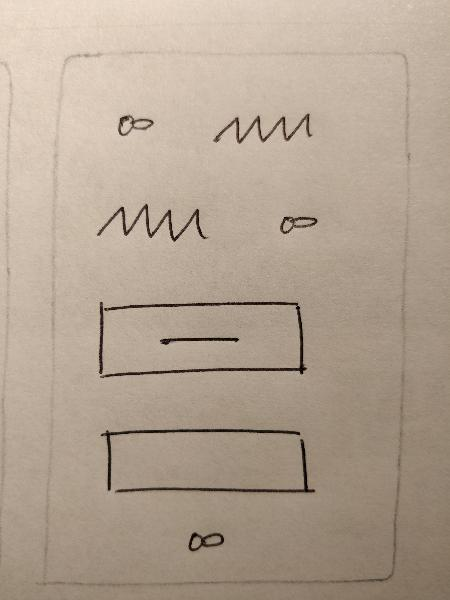button: (83, 291, 322, 386)
switch: (175, 518, 244, 563), (105, 107, 168, 147), (270, 203, 330, 242)
text: (91, 196, 224, 249), (204, 106, 324, 150)
text_input: (87, 414, 332, 509)
